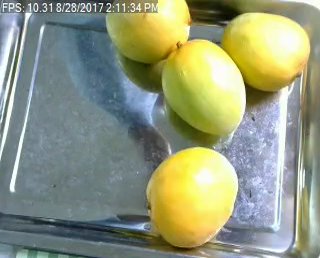Mango: (146, 148, 236, 246), (161, 38, 245, 134), (222, 13, 310, 93), (105, 0, 191, 61)
